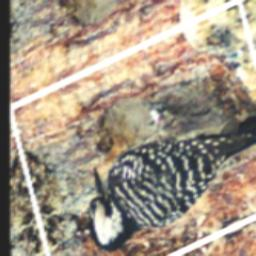Woodpecker: (59, 44, 256, 256)
